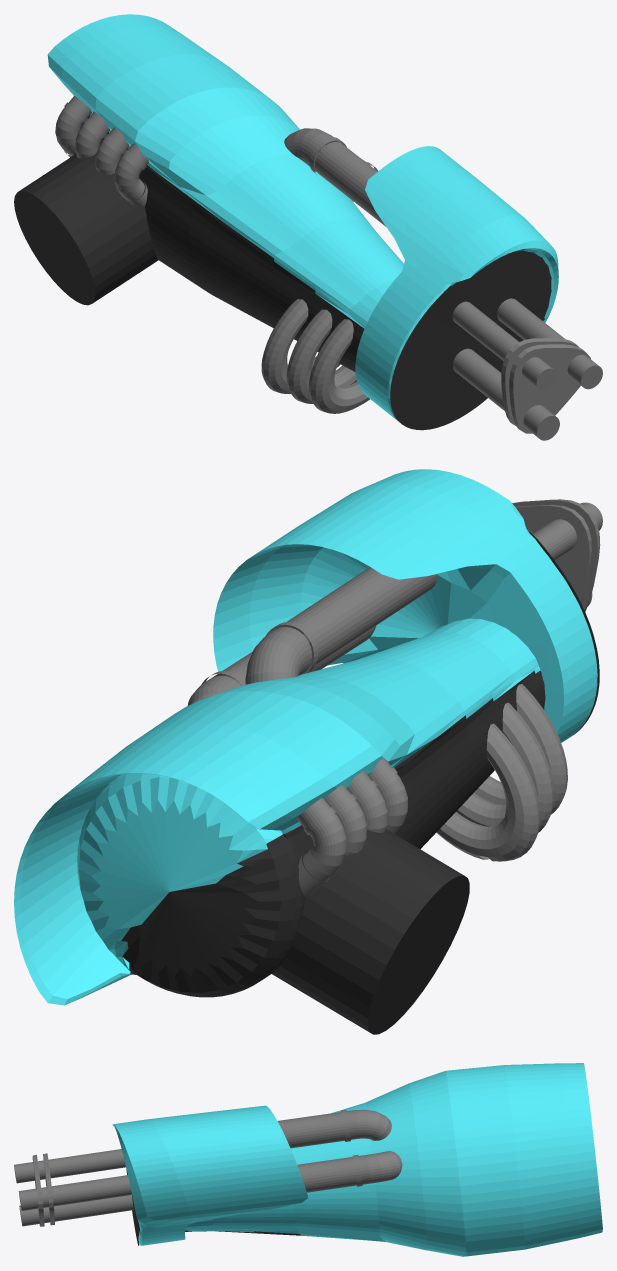
The model's file is MissileShip_Arms_UpperR.fbx.
3 renders of one model, top to bottom at view 1: azimuth 30°, elevation 25°; view 2: azimuth 150°, elevation 25°; view 3: azimuth 270°, elevation 25°, orthographic. The views are drawn at different scales.
Visible parts, largest first — view 1: Cylinder.032, Cylinder.000, Cylinder.035, Cylinder.037, Cylinder.038, Cylinder.036, Cylinder.033, Cylinder.034; view 2: Cylinder.032, Cylinder.000, Cylinder.038, Cylinder.035, Cylinder.033, Cylinder.034, Cylinder.036; view 3: Cylinder.032, Cylinder.000, Cylinder.036, Cylinder.033.
Boxes of the visible parts, left/top/right/bottom form: Cylinder.032: left=47, top=14, right=403, bottom=328; Cylinder.000: left=355, top=146, right=558, bottom=430; Cylinder.035: left=14, top=139, right=158, bottom=305; Cylinder.037: left=390, top=250, right=551, bottom=430; Cylinder.038: left=70, top=115, right=364, bottom=371; Cylinder.036: left=452, top=298, right=602, bottom=440; Cylinder.033: left=55, top=96, right=385, bottom=226; Cylinder.034: left=261, top=299, right=369, bottom=413; Cylinder.032: left=14, top=618, right=540, bottom=1005; Cylinder.000: left=213, top=469, right=598, bottom=742; Cylinder.038: left=121, top=670, right=545, bottom=997; Cylinder.035: left=272, top=829, right=469, bottom=1034; Cylinder.033: left=187, top=567, right=437, bottom=897; Cylinder.034: left=436, top=684, right=567, bottom=861; Cylinder.036: left=512, top=499, right=602, bottom=611; Cylinder.032: left=185, top=1063, right=602, bottom=1256; Cylinder.000: left=112, top=1105, right=308, bottom=1245; Cylinder.036: left=14, top=1149, right=133, bottom=1226; Cylinder.033: left=277, top=1109, right=402, bottom=1192.
Size of the model in its own units: 105 by 70.97 by 236.
